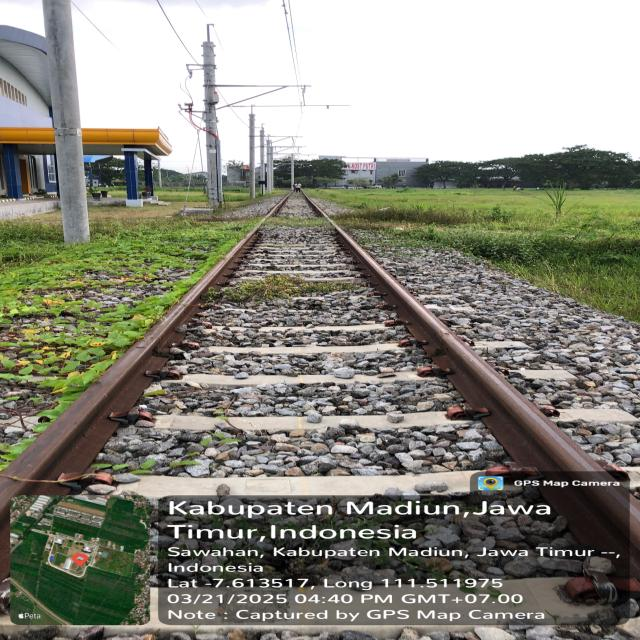rail-detection: (336, 229, 640, 579), (0, 226, 259, 544)
